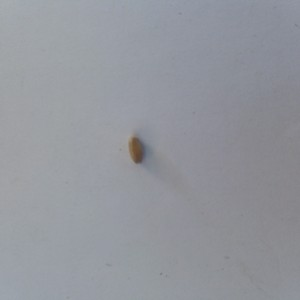trigo: (123, 134, 146, 168)
